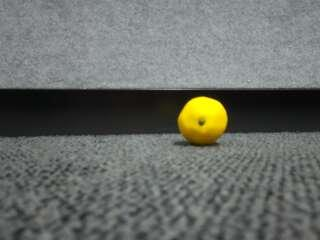lemon: (178, 97, 227, 145)
